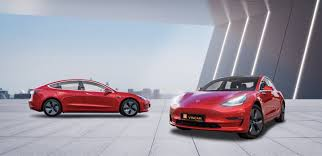car: (168, 69, 293, 145), (22, 73, 154, 129)
